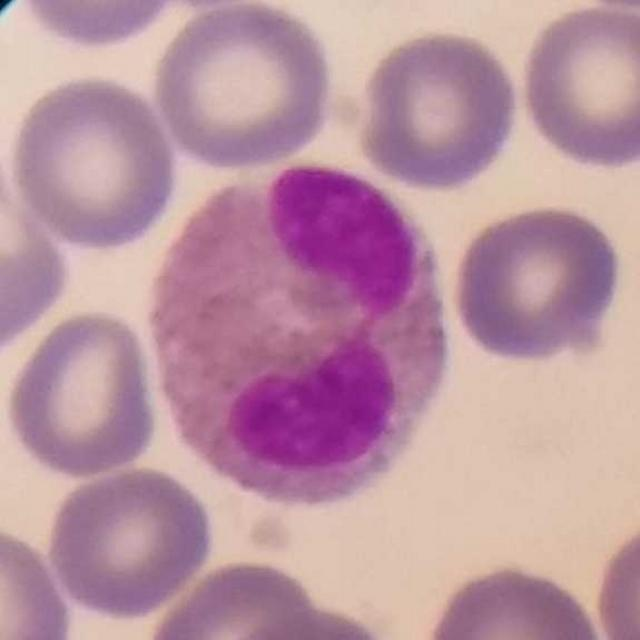eosino: (149, 155, 453, 512)
